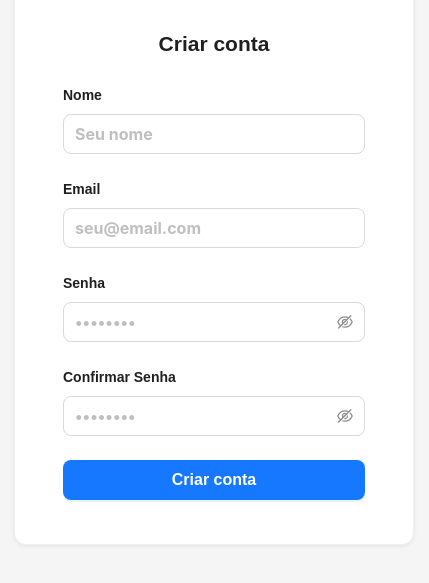
NewUserForm › validates that the password is required
Type "Fulano" into the field with placeholder "Seu nome" at coordinates (214, 134), box [63,114,365,154]
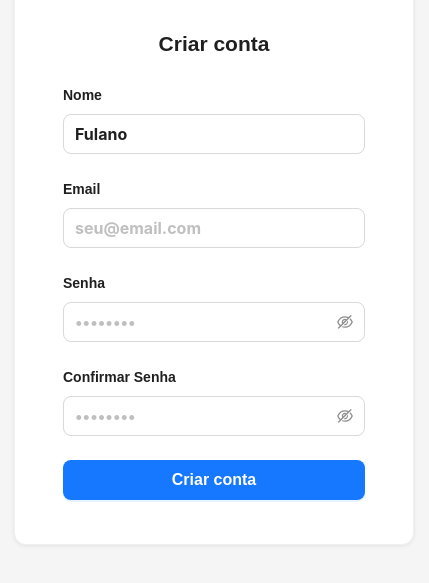
Type "a@b.com" into the field with placeholder "seu@email.com" at coordinates (214, 228), box [63,208,365,248]
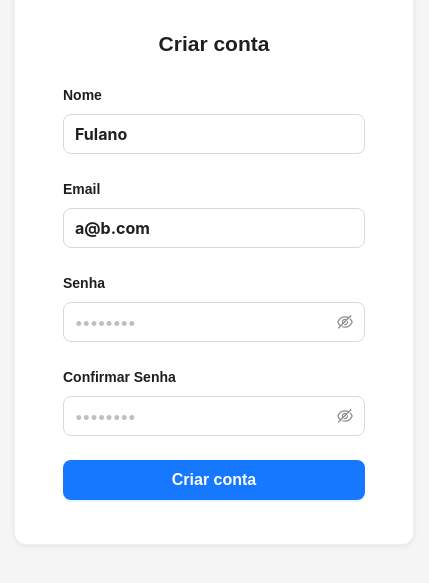
Click the button "Criar conta" at coordinates (214, 480), box [63,460,365,500]
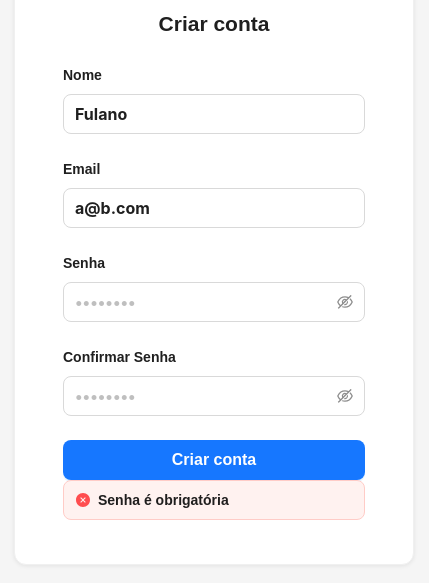
expect the text "Senha é obrigatória" is shown: met, box [98,492,229,508]
